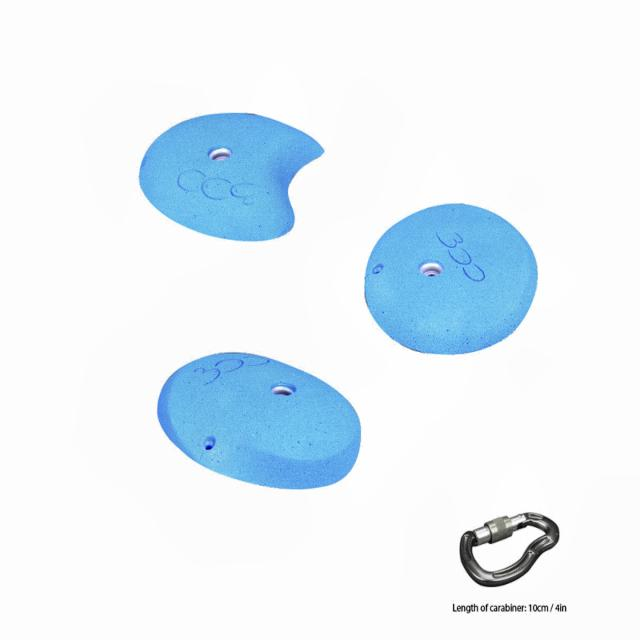Hold: (157, 351, 356, 490), (362, 200, 534, 356), (142, 111, 318, 242)
